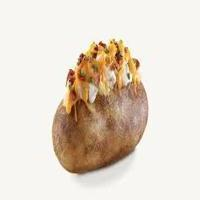biodegradable: (51, 38, 150, 174)
